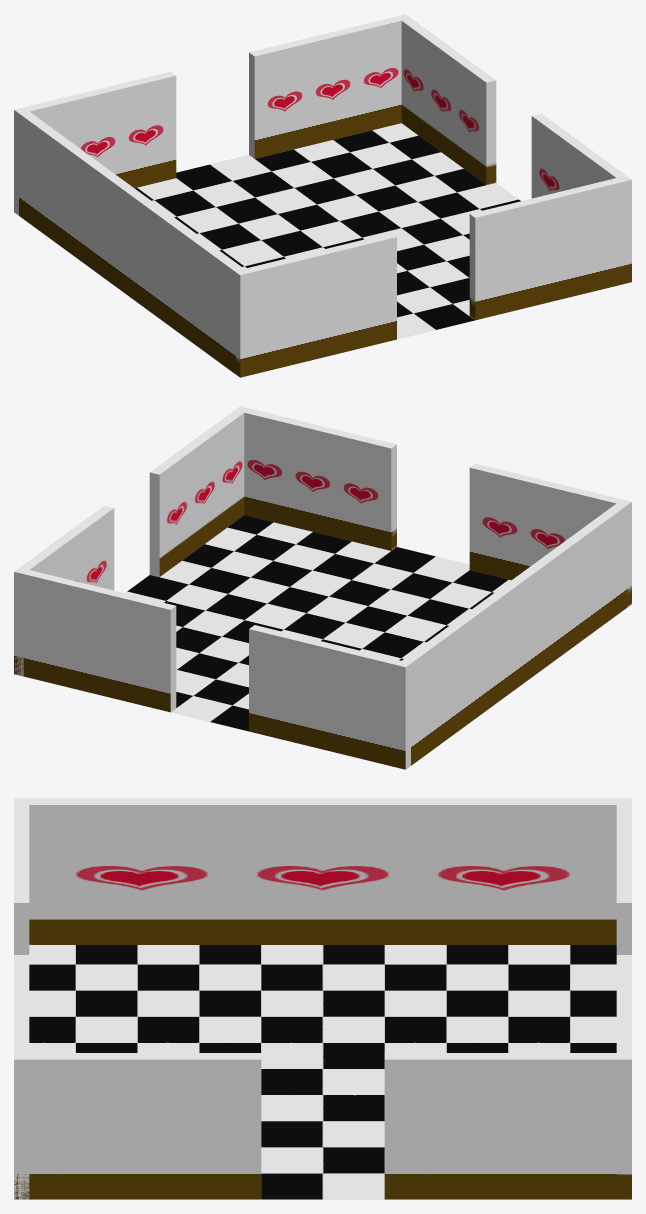
The model's file is Room1.fbx.
3 views of the same model, one above another, from view 1: azimuth 30°, elevation 25°; view 2: azimuth 150°, elevation 25°; view 3: azimuth 270°, elevation 25° (orthographic). The views are drawn at different scales.
Parts seen in each view (by area): view 1: pPlane1, pCube10, pCube12, pCube13, pCube11, pCube9, pCube64, pCube65; view 2: pPlane1, pCube10, pCube11, pCube9, pCube12, pCube13, pCube65, pCube64; view 3: pCube10, pPlane1, pCube64, pCube65, pCube12, pCube11, pCube13, pCube9.
Part boxes in pixels (left/top/right/bottom): pPlane1: left=135, top=123, right=520, bottom=339; pCube10: left=19, top=111, right=243, bottom=373; pCube12: left=469, top=177, right=631, bottom=320; pCube13: left=234, top=233, right=396, bottom=377; pCube11: left=249, top=14, right=410, bottom=158; pCube9: left=14, top=71, right=176, bottom=215; pCube64: left=396, top=14, right=496, bottom=185; pCube65: left=531, top=113, right=631, bottom=281; pPlane1: left=125, top=515, right=510, bottom=731; pCube10: left=402, top=503, right=626, bottom=765; pCube11: left=14, top=569, right=176, bottom=712; pCube9: left=249, top=625, right=410, bottom=769; pCube12: left=235, top=406, right=396, bottom=550; pCube13: left=469, top=463, right=631, bottom=607; pCube65: left=149, top=406, right=248, bottom=577; pCube64: left=14, top=505, right=114, bottom=676; pCube10: left=28, top=798, right=617, bottom=944; pPlane1: left=29, top=945, right=616, bottom=1199; pCube64: left=384, top=1053, right=631, bottom=1199; pCube65: left=14, top=1053, right=261, bottom=1199; pCube12: left=14, top=955, right=29, bottom=1199; pCube11: left=616, top=955, right=631, bottom=1199; pCube13: left=14, top=798, right=29, bottom=954; pCube9: left=616, top=798, right=631, bottom=954.
Size of the model in its own units: 2000 by 500 by 2000.
2 materials, 2 textured.
